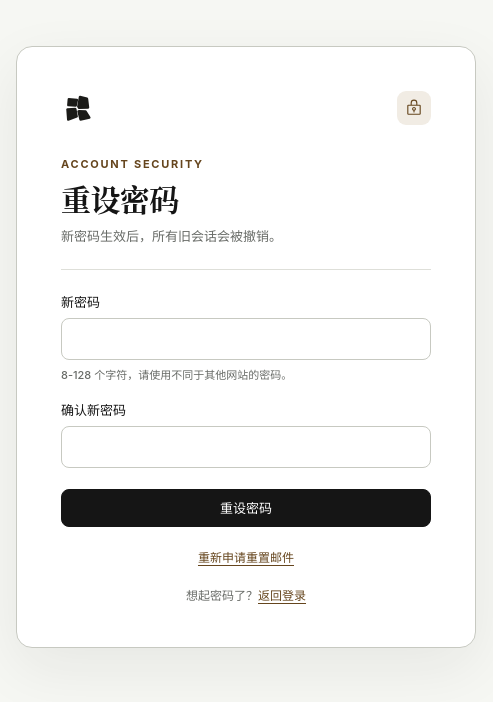
PasswordResetPage › keeps mismatched or short passwords away from the API
Type "short" into the password field labelled "新密码" at (246,339), box [61,318,431,360]
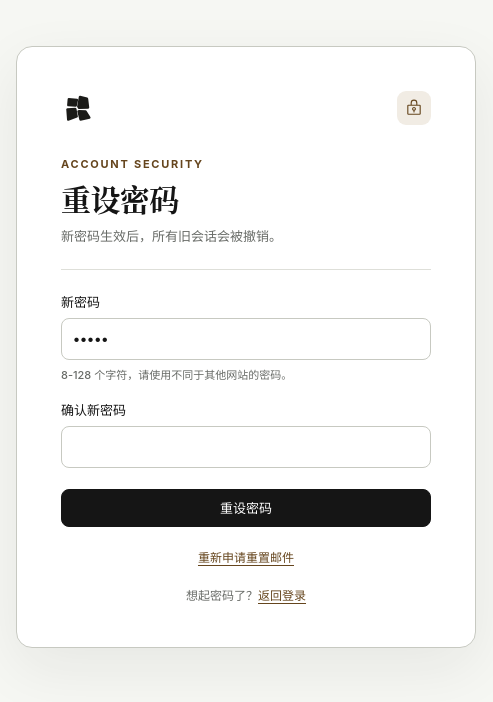
Type "different" into the password field labelled "确认新密码" at (246,448), box [61,426,431,468]
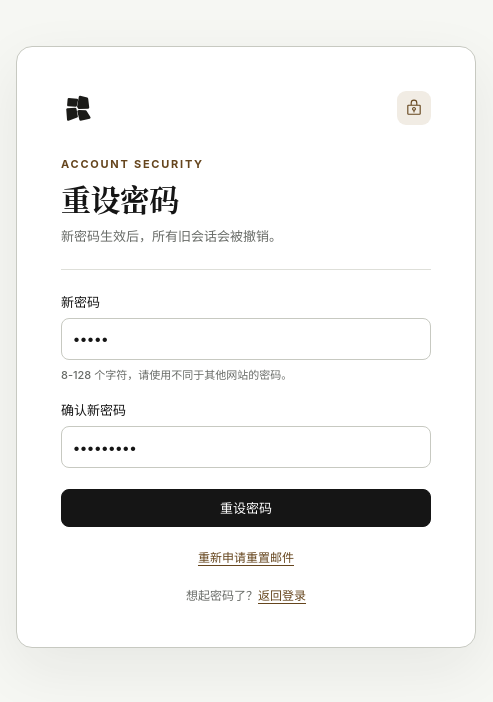
Click the button "重设密码" at (246,508), box [61,490,431,528]
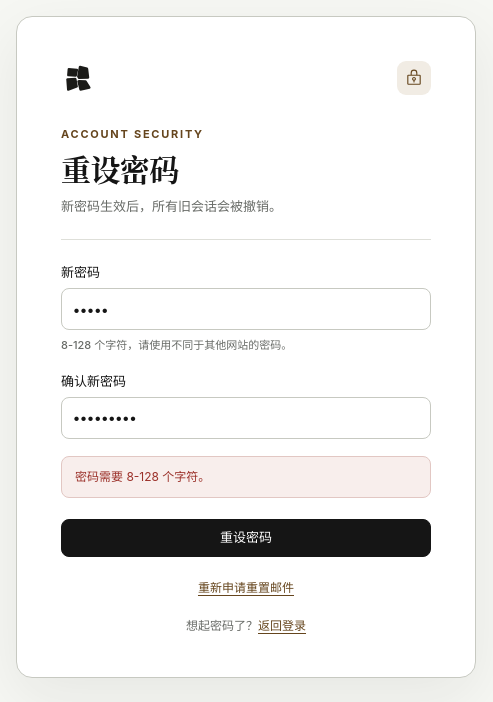
Expected: the message shows "密码需要 8-128 个字符", [75,469,210,484]
